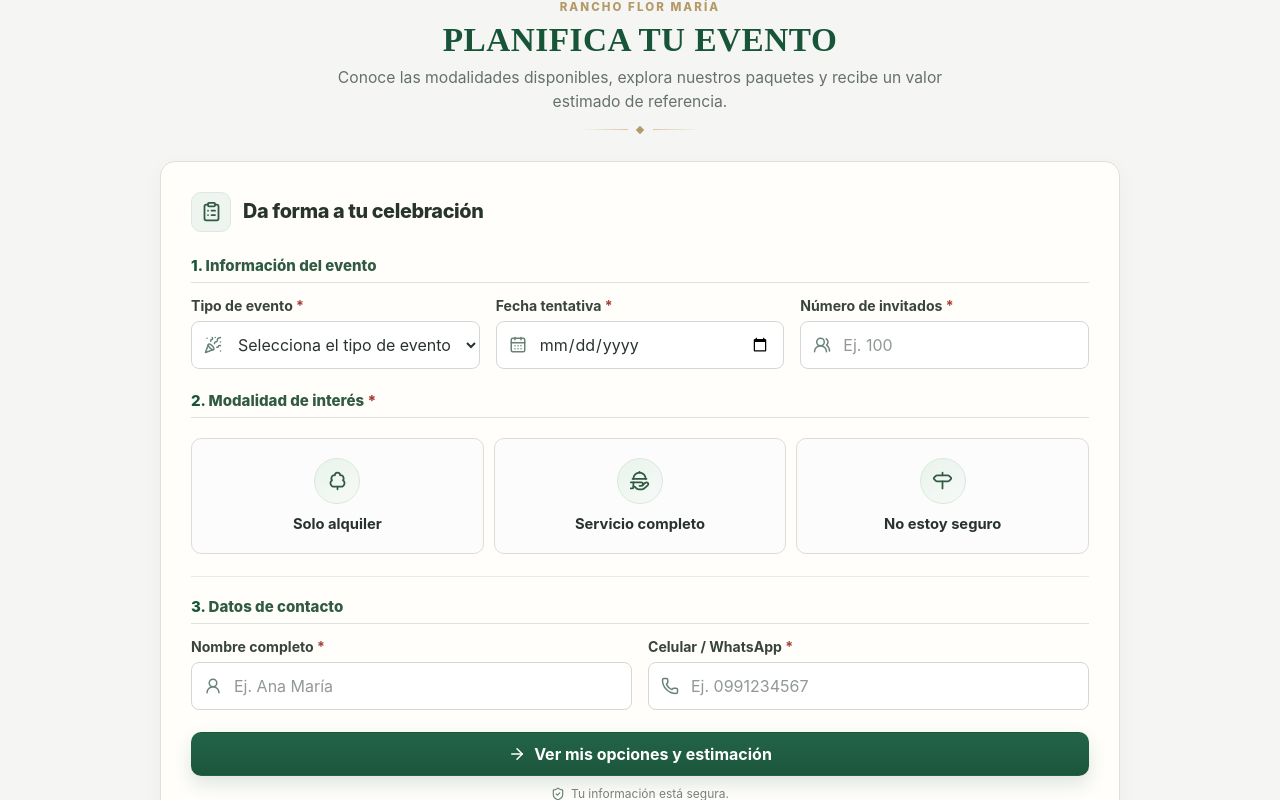
PreCotizacionPage › continúa sin paquete y normaliza el celular antes de enviar
This screenshot has width=1280, height=800.
Select "Boda" in the dropdown labelled "Tipo de evento *" at point(335, 345), box [191,321,480,369]
Type "2026-08-31" into the date field labelled "Fecha tentativa *".
click(640, 345); type("2026-08-31")  # box [496,321,784,369]
Type "100" into the number field labelled "Número de invitados *".
click(945, 345); type("100")  # box [800,321,1089,369]
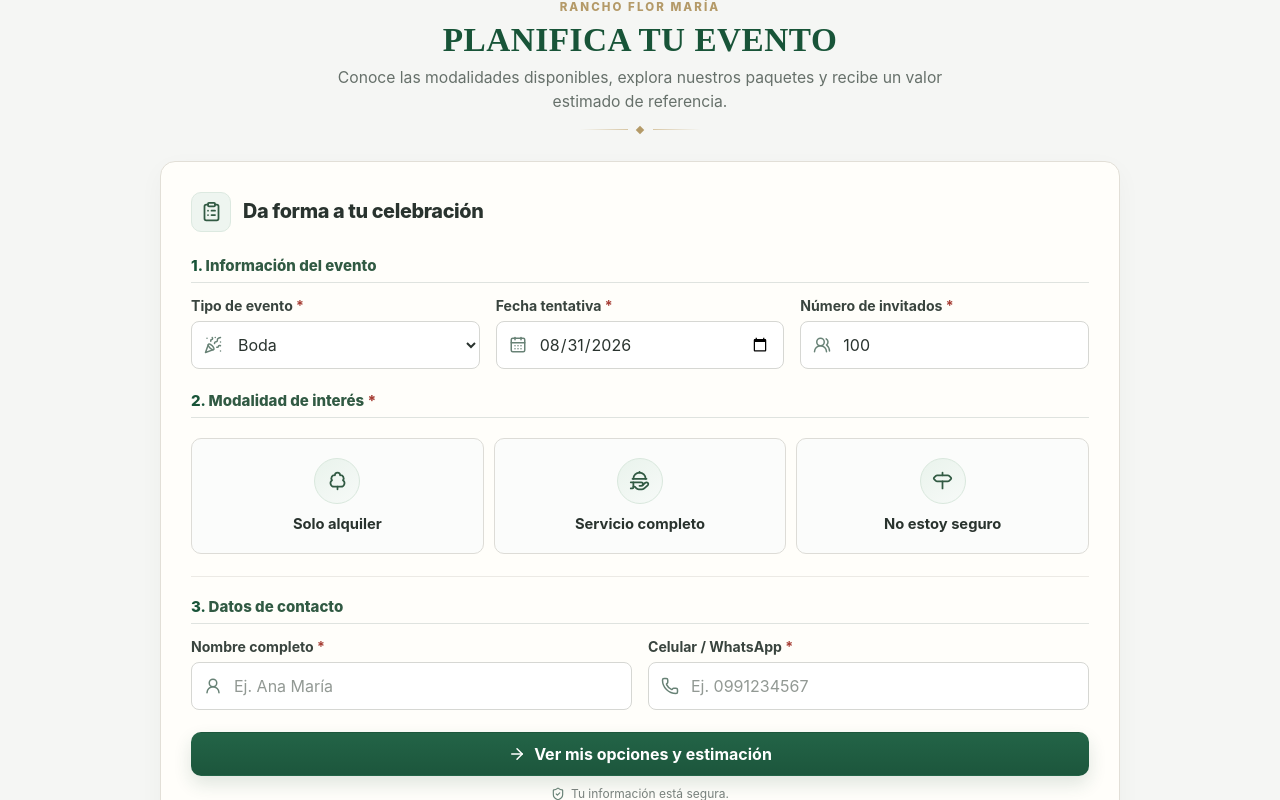
Click the radio button labelled "Servicio completo".
click(640, 496)  # box [494,438,786,554]
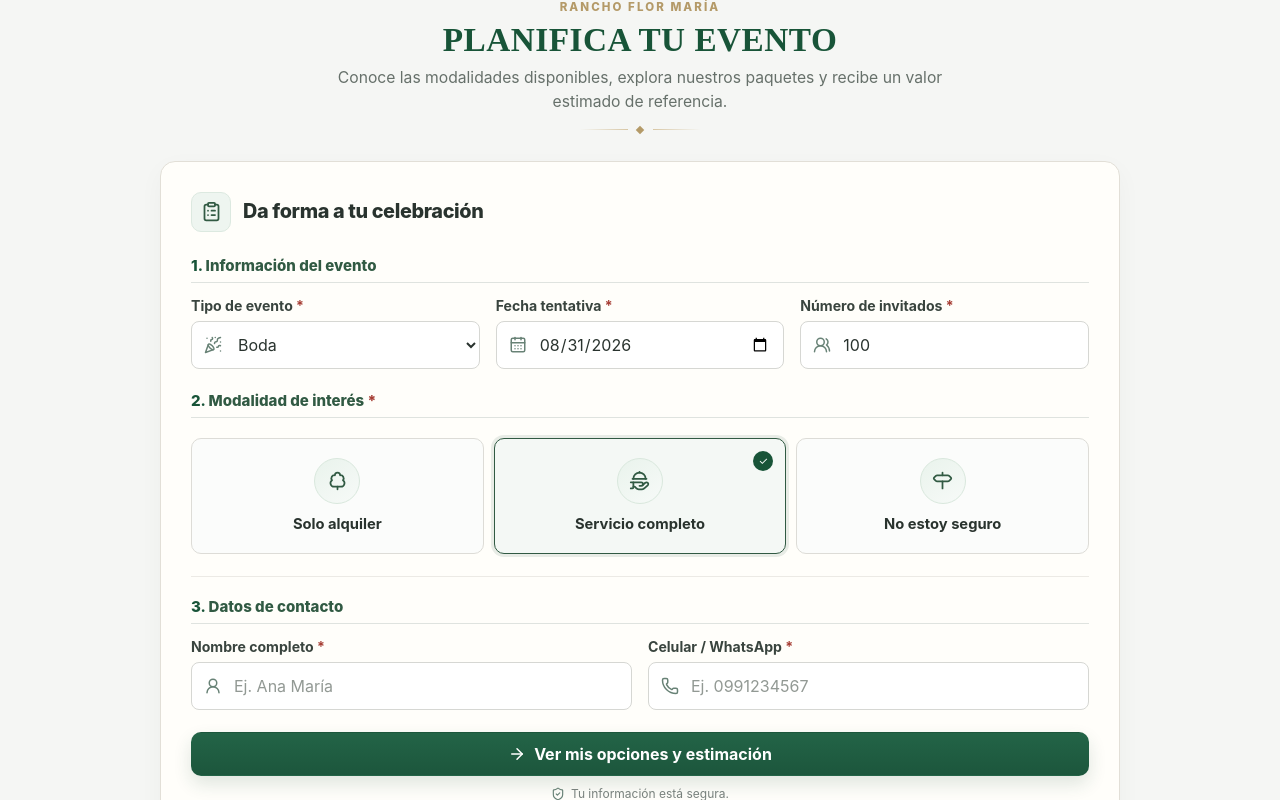
Type "Ana María" into the field labelled "Nombre completo *".
click(412, 686); type("Ana María")  # box [191,662,632,710]
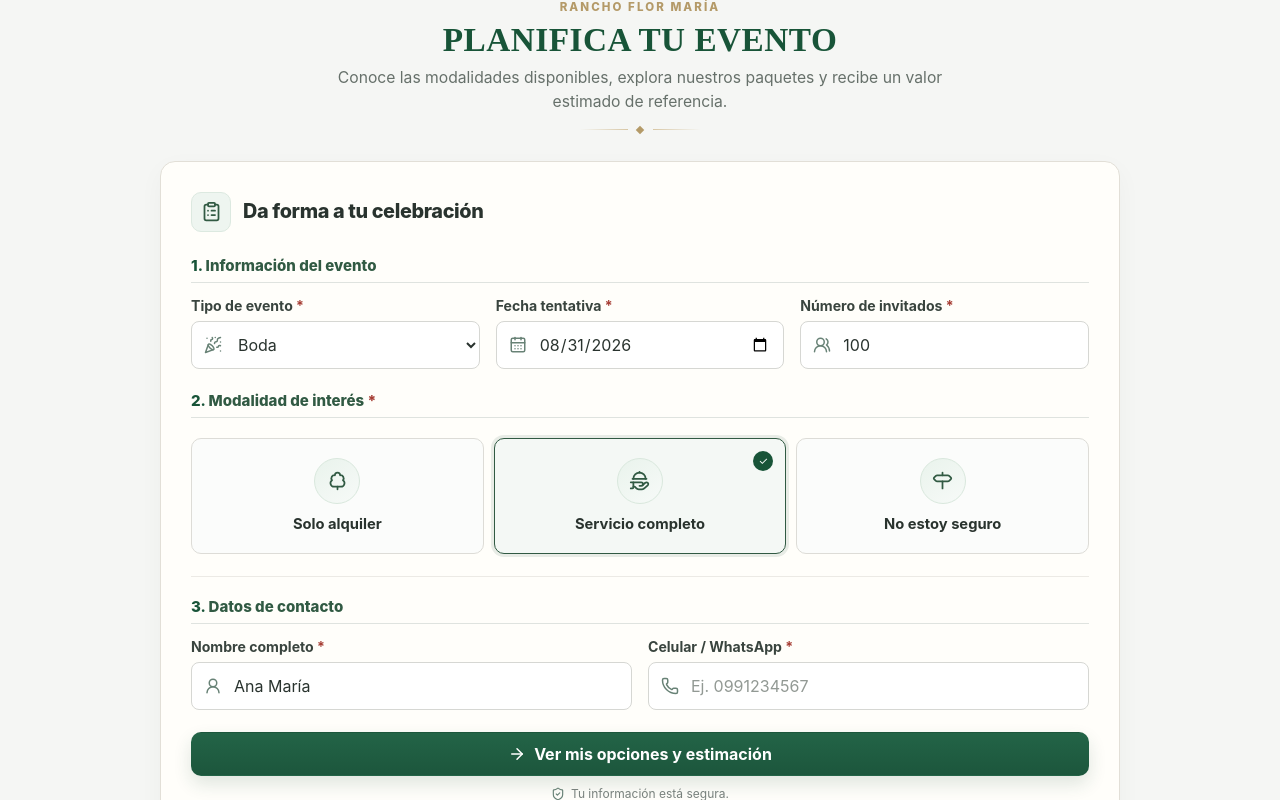
Type "+593 99 123 4567" into the field labelled "Celular / WhatsApp *".
click(868, 686); type("+593 99 123 4567")  # box [648,662,1089,710]
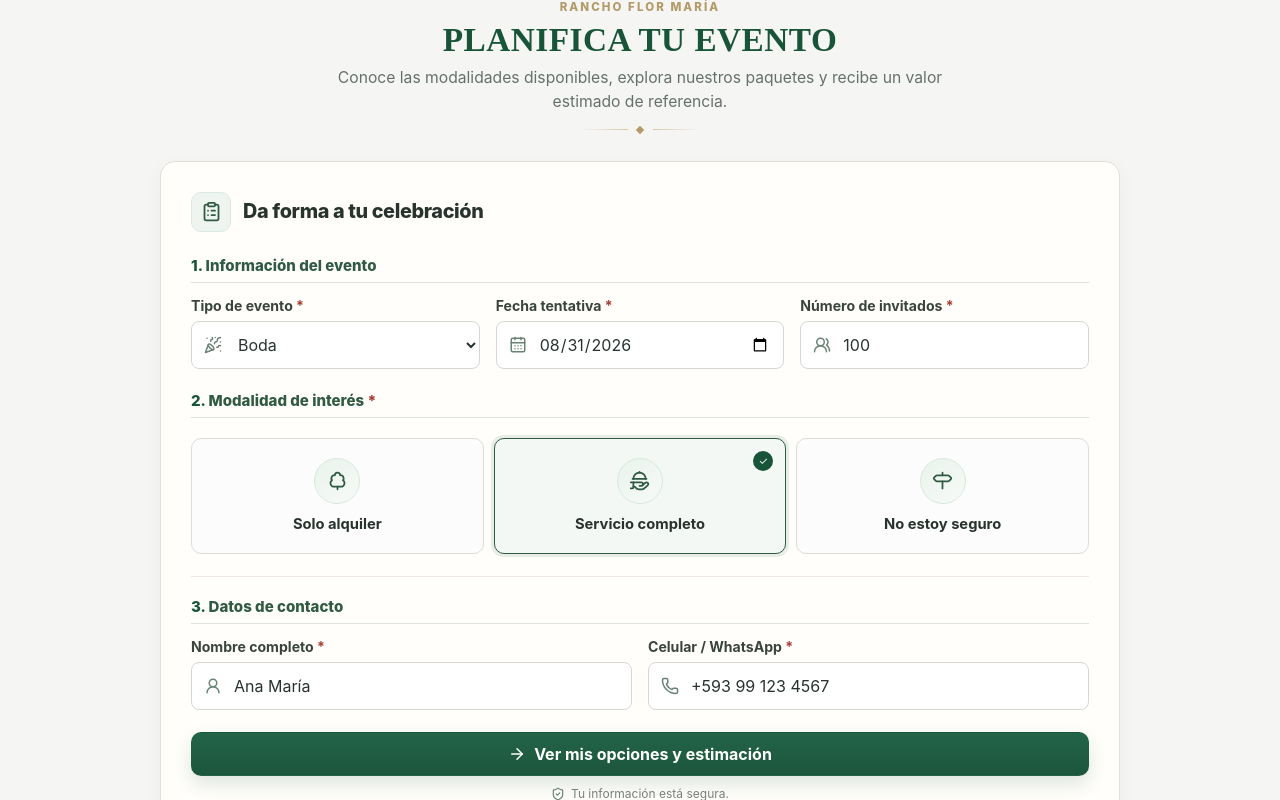
Click the button "Ver mis opciones y estimación".
click(640, 754)  # box [191,732,1089,776]
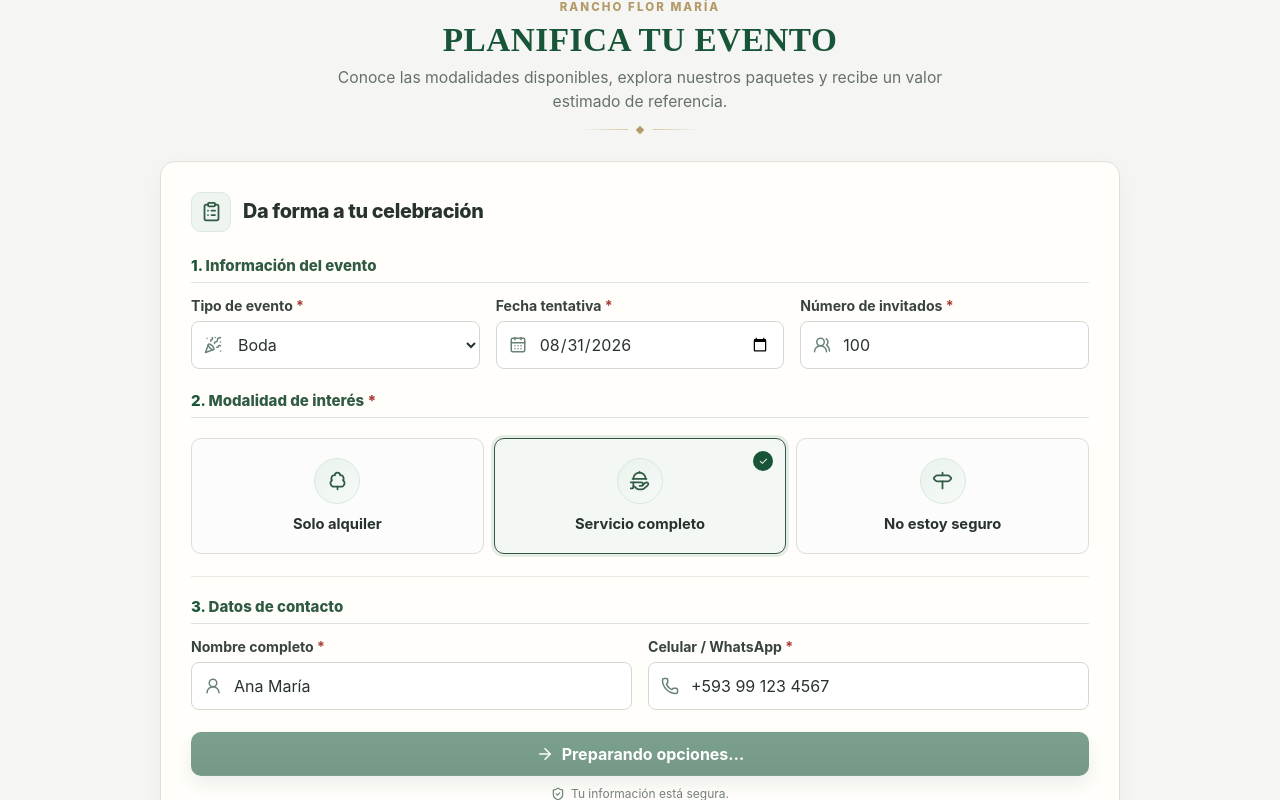
Click the button named "Ver mis opciones y estimación".
click(640, 754)  # box [191,732,1089,776]
(page scrolled)
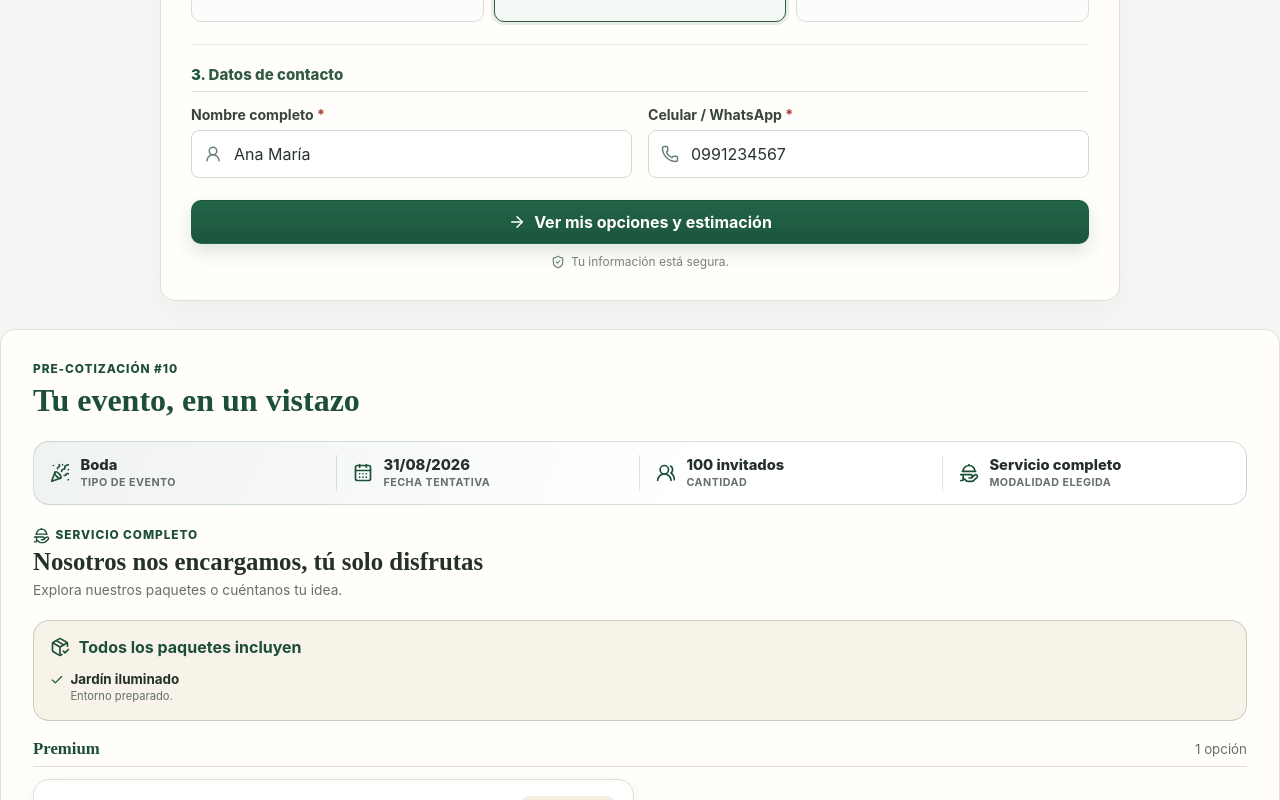
Expected: the heading "Tu evento, en un vistazo" is shown, [33,382,360,419]
